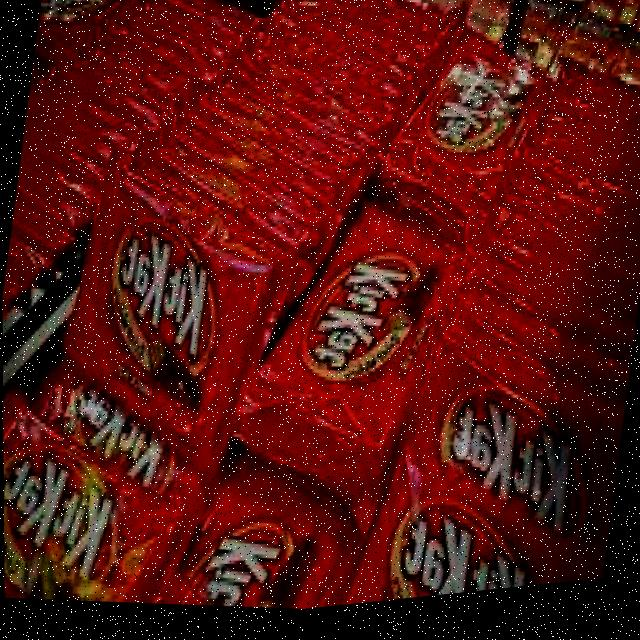kitkat: (217, 186, 469, 552), (48, 139, 288, 497), (375, 317, 635, 610), (2, 383, 203, 622), (370, 34, 543, 257)
